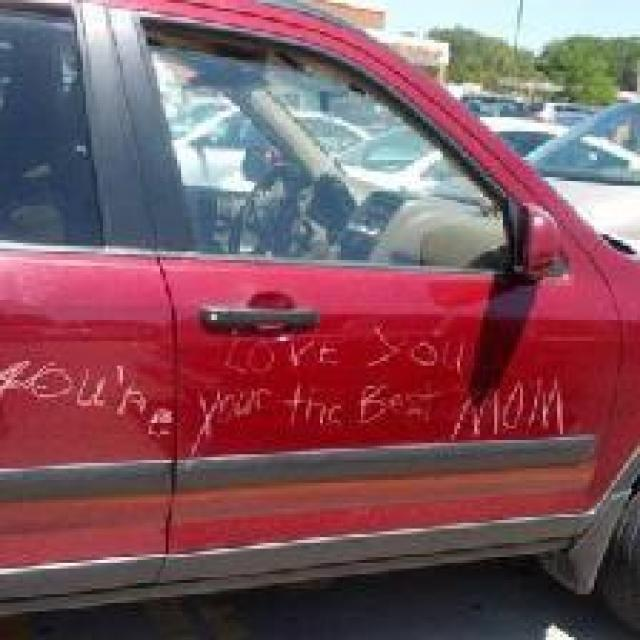damaged: (2, 326, 592, 454)
